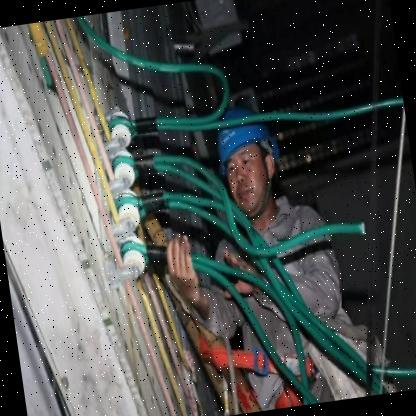capacete: (205, 97, 285, 175)
